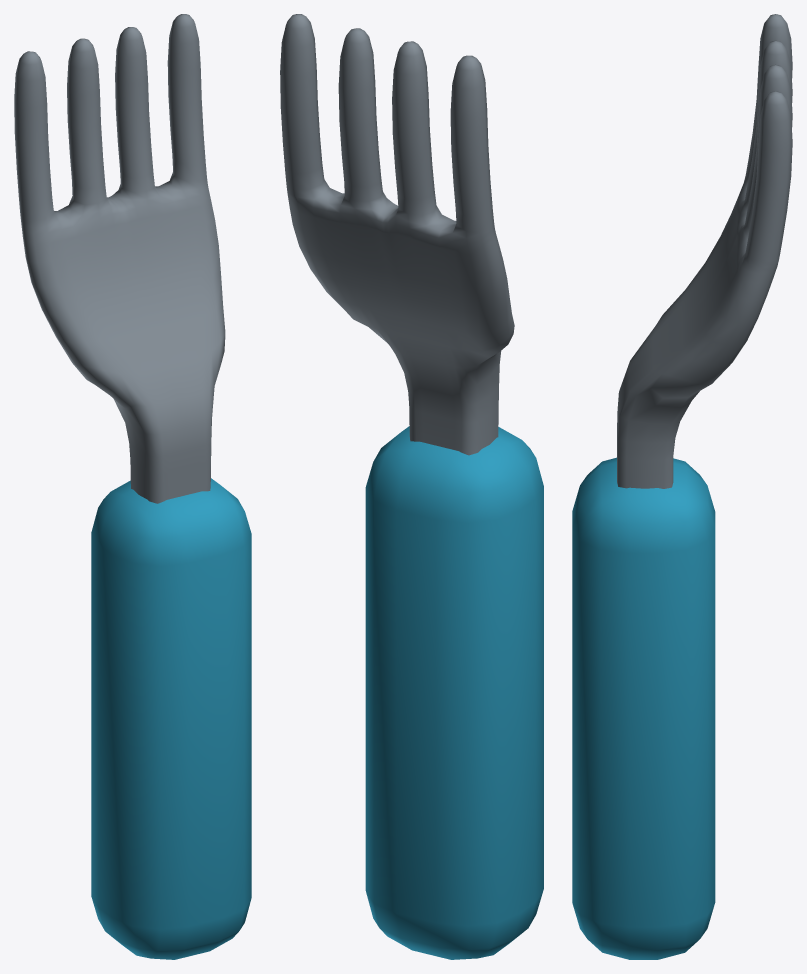
The model's file is Fork.fbx.
The picture shows the model from 3 angles, left to right: view 1: azimuth 30°, elevation 25°; view 2: azimuth 150°, elevation 25°; view 3: azimuth 270°, elevation 25°; orthographic projection. The views are drawn at different scales.
Visible parts, largest first — view 1: Cube.040, Cube.041; view 2: Cube.040, Cube.041; view 3: Cube.040, Cube.041.
Part boxes in pixels (x1=…): Cube.040: x1=91, y1=478, x2=251, y2=959; Cube.041: x1=14, y1=14, x2=225, y2=503; Cube.040: x1=365, y1=426, x2=543, y2=959; Cube.041: x1=280, y1=14, x2=514, y2=455; Cube.040: x1=572, y1=457, x2=715, y2=959; Cube.041: x1=617, y1=14, x2=792, y2=488.
Bounding box in the file's own units: 1.13 × 5.02 × 1.12.
